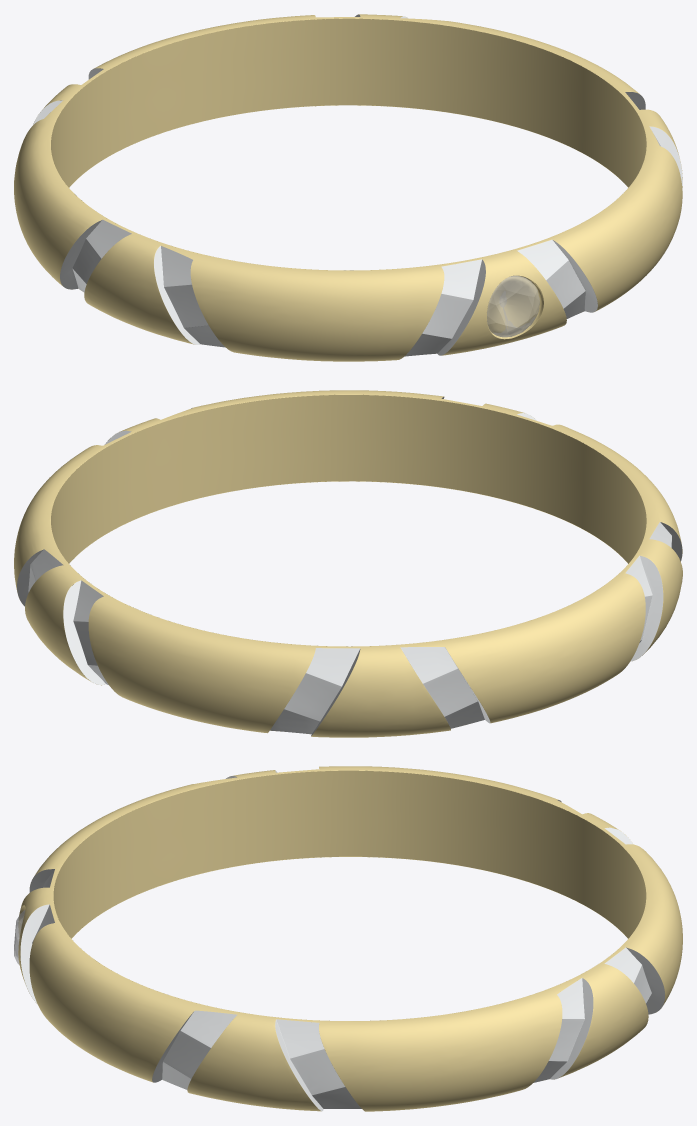
3 renders of one model, top to bottom at view 1: azimuth 30°, elevation 25°; view 2: azimuth 150°, elevation 25°; view 3: azimuth 270°, elevation 25°, orthographic.
Parts seen in each view (by area): view 1: Base_Metal, Engraving_Metal, Finishing_Metal, Diamond_Metal; view 2: Base_Metal, Engraving_Metal, Finishing_Metal; view 3: Base_Metal, Engraving_Metal, Finishing_Metal.
Boxes of the visible parts, x1=… form: Base_Metal: x1=14, y1=14, x2=682, y2=361; Engraving_Metal: x1=51, y1=18, x2=646, y2=270; Finishing_Metal: x1=33, y1=14, x2=682, y2=356; Diamond_Metal: x1=487, y1=275, x2=539, y2=337; Base_Metal: x1=14, y1=390, x2=682, y2=737; Engraving_Metal: x1=51, y1=394, x2=646, y2=646; Finishing_Metal: x1=17, y1=397, x2=682, y2=735; Base_Metal: x1=18, y1=766, x2=682, y2=1111; Engraving_Metal: x1=53, y1=770, x2=646, y2=1020; Finishing_Metal: x1=20, y1=770, x2=664, y2=1111.
Bounding box in the file's own units: 2.8 × 0.4002 × 2.81.
